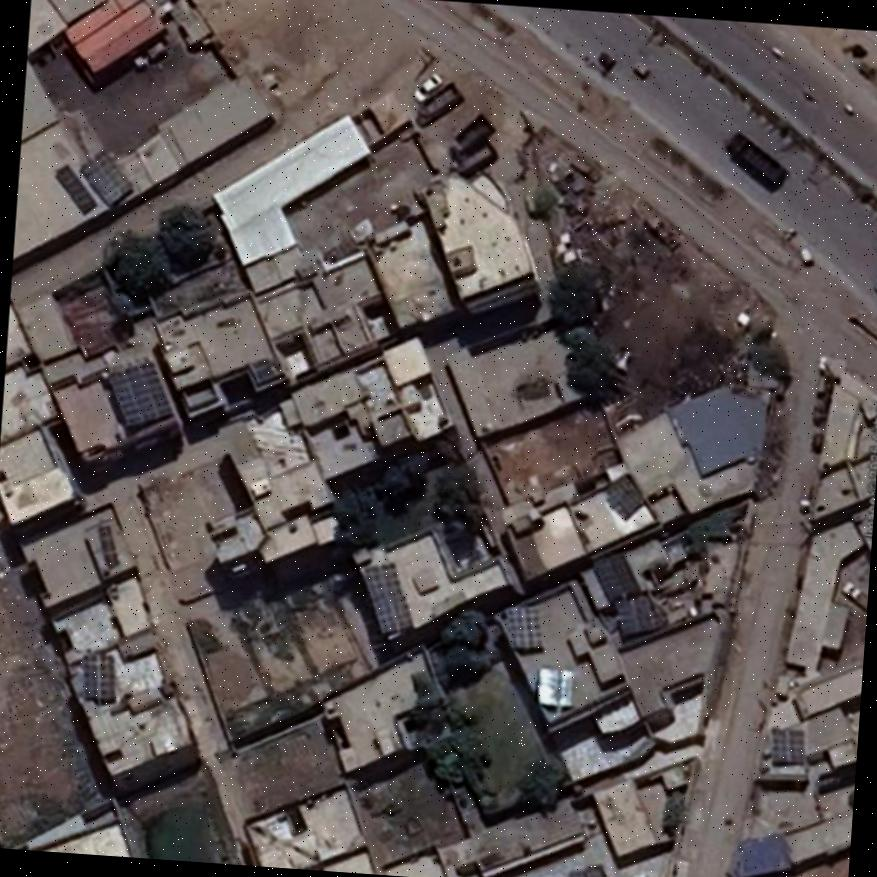Solarpanel: (107, 358, 170, 425), (363, 563, 412, 630), (78, 150, 130, 206), (591, 551, 634, 597), (54, 164, 93, 211), (612, 592, 651, 632), (537, 666, 573, 705), (80, 654, 110, 699), (507, 603, 538, 646), (770, 730, 803, 762), (563, 864, 604, 877)
